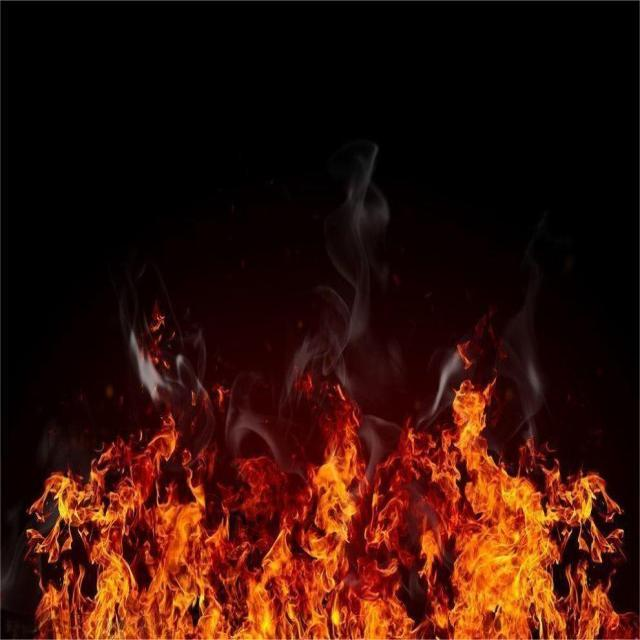Fire: (25, 300, 640, 640)
